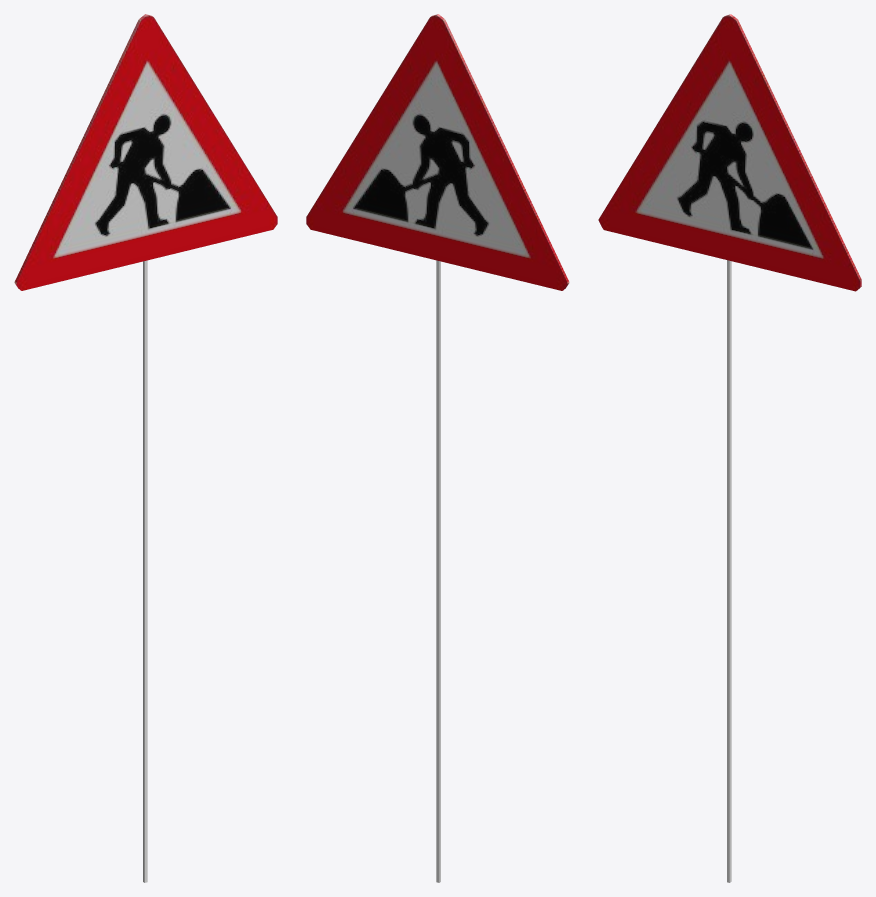
File: trafik_levha_yol_calismasi.obj
The picture shows the model from 3 angles, left to right: view 1: azimuth 30°, elevation 25°; view 2: azimuth 150°, elevation 25°; view 3: azimuth 330°, elevation 25°; orthographic projection.
Parts seen in each view (by area): view 1: Mesh2 Group1 Model, Mesh1 Group2 Group1 Model; view 2: Mesh2 Group1 Model, Mesh1 Group2 Group1 Model; view 3: Mesh2 Group1 Model, Mesh1 Group2 Group1 Model.
Boxes of the visible parts, x1,y1,x2,y2 form: Mesh2 Group1 Model: [14, 14, 277, 290]; Mesh1 Group2 Group1 Model: [143, 260, 147, 882]; Mesh2 Group1 Model: [306, 14, 569, 290]; Mesh1 Group2 Group1 Model: [436, 260, 440, 882]; Mesh2 Group1 Model: [598, 14, 861, 291]; Mesh1 Group2 Group1 Model: [727, 260, 731, 882].
Bounding box in the file's own units: 880 × 2789 × 10.
Materials: 2 (1 with a texture image).
